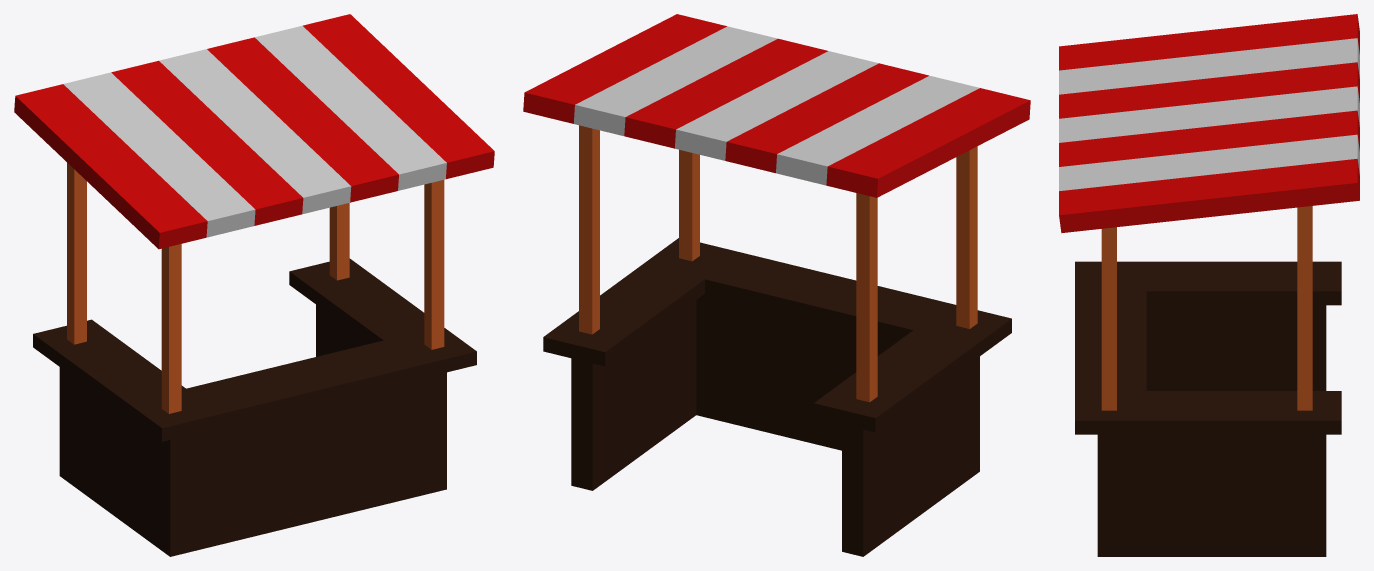
The model's file is shopStand.obj.
The picture shows the model from 3 angles, left to right: view 1: azimuth 30°, elevation 25°; view 2: azimuth 150°, elevation 25°; view 3: azimuth 270°, elevation 25°; orthographic projection. The views are drawn at different scales.
Parts seen in each view (by area): view 1: Cube, Cube.003, Cube.001; view 2: Cube, Cube.003, Cube.001; view 3: Cube, Cube.003, Cube.001.
Part boxes in pixels (left/top/right/bottom): Cube: left=33, top=258, right=476, bottom=556; Cube.003: left=14, top=14, right=494, bottom=249; Cube.001: left=67, top=162, right=444, bottom=413; Cube: left=543, top=238, right=1011, bottom=556; Cube.003: left=523, top=14, right=1030, bottom=197; Cube.001: left=579, top=125, right=977, bottom=402; Cube: left=1075, top=261, right=1341, bottom=556; Cube.003: left=1059, top=14, right=1359, bottom=233; Cube.001: left=1101, top=206, right=1312, bottom=410.
Bounding box in the file's own units: 1.31 × 1.41 × 0.9874.
